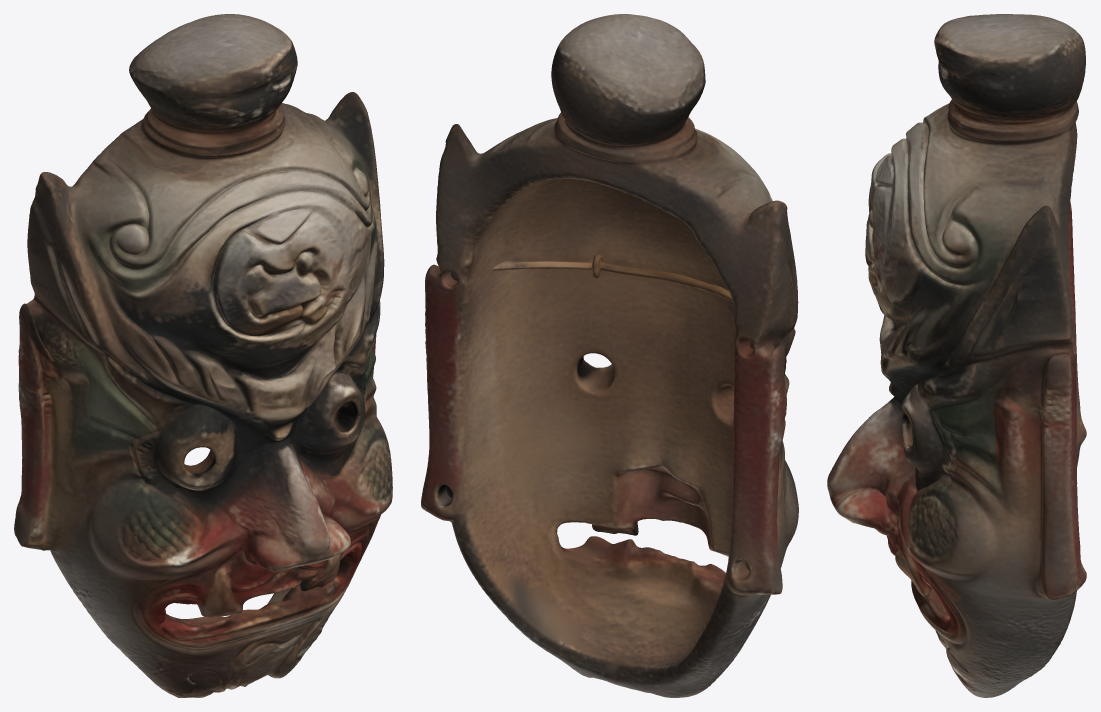
File: mask-002.glb
The picture shows the model from 3 angles, left to right: view 1: azimuth 30°, elevation 25°; view 2: azimuth 150°, elevation 25°; view 3: azimuth 270°, elevation 25°; orthographic projection.
Visible parts, largest first — view 1: node_0; view 2: node_0; view 3: node_0.
Boxes of the visible parts, bbox=[...] form: node_0: bbox=[14, 14, 392, 697]; node_0: bbox=[421, 14, 798, 697]; node_0: bbox=[827, 14, 1086, 697].
Size of the model in its own units: 0.6587 by 1.16 by 0.4201.
1 material, 1 textured.
